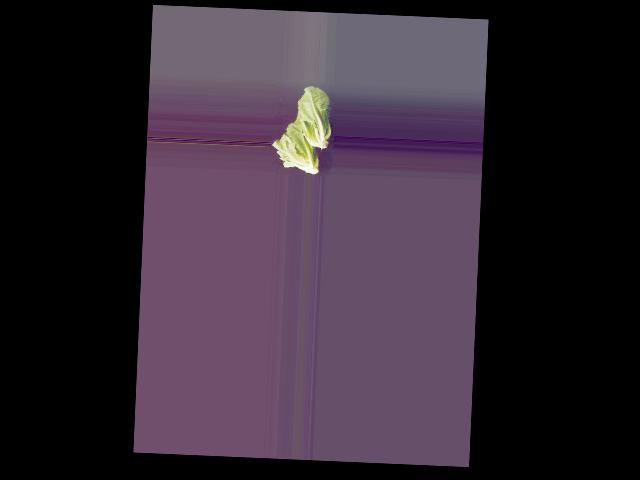lettuce: (272, 111, 327, 174)
